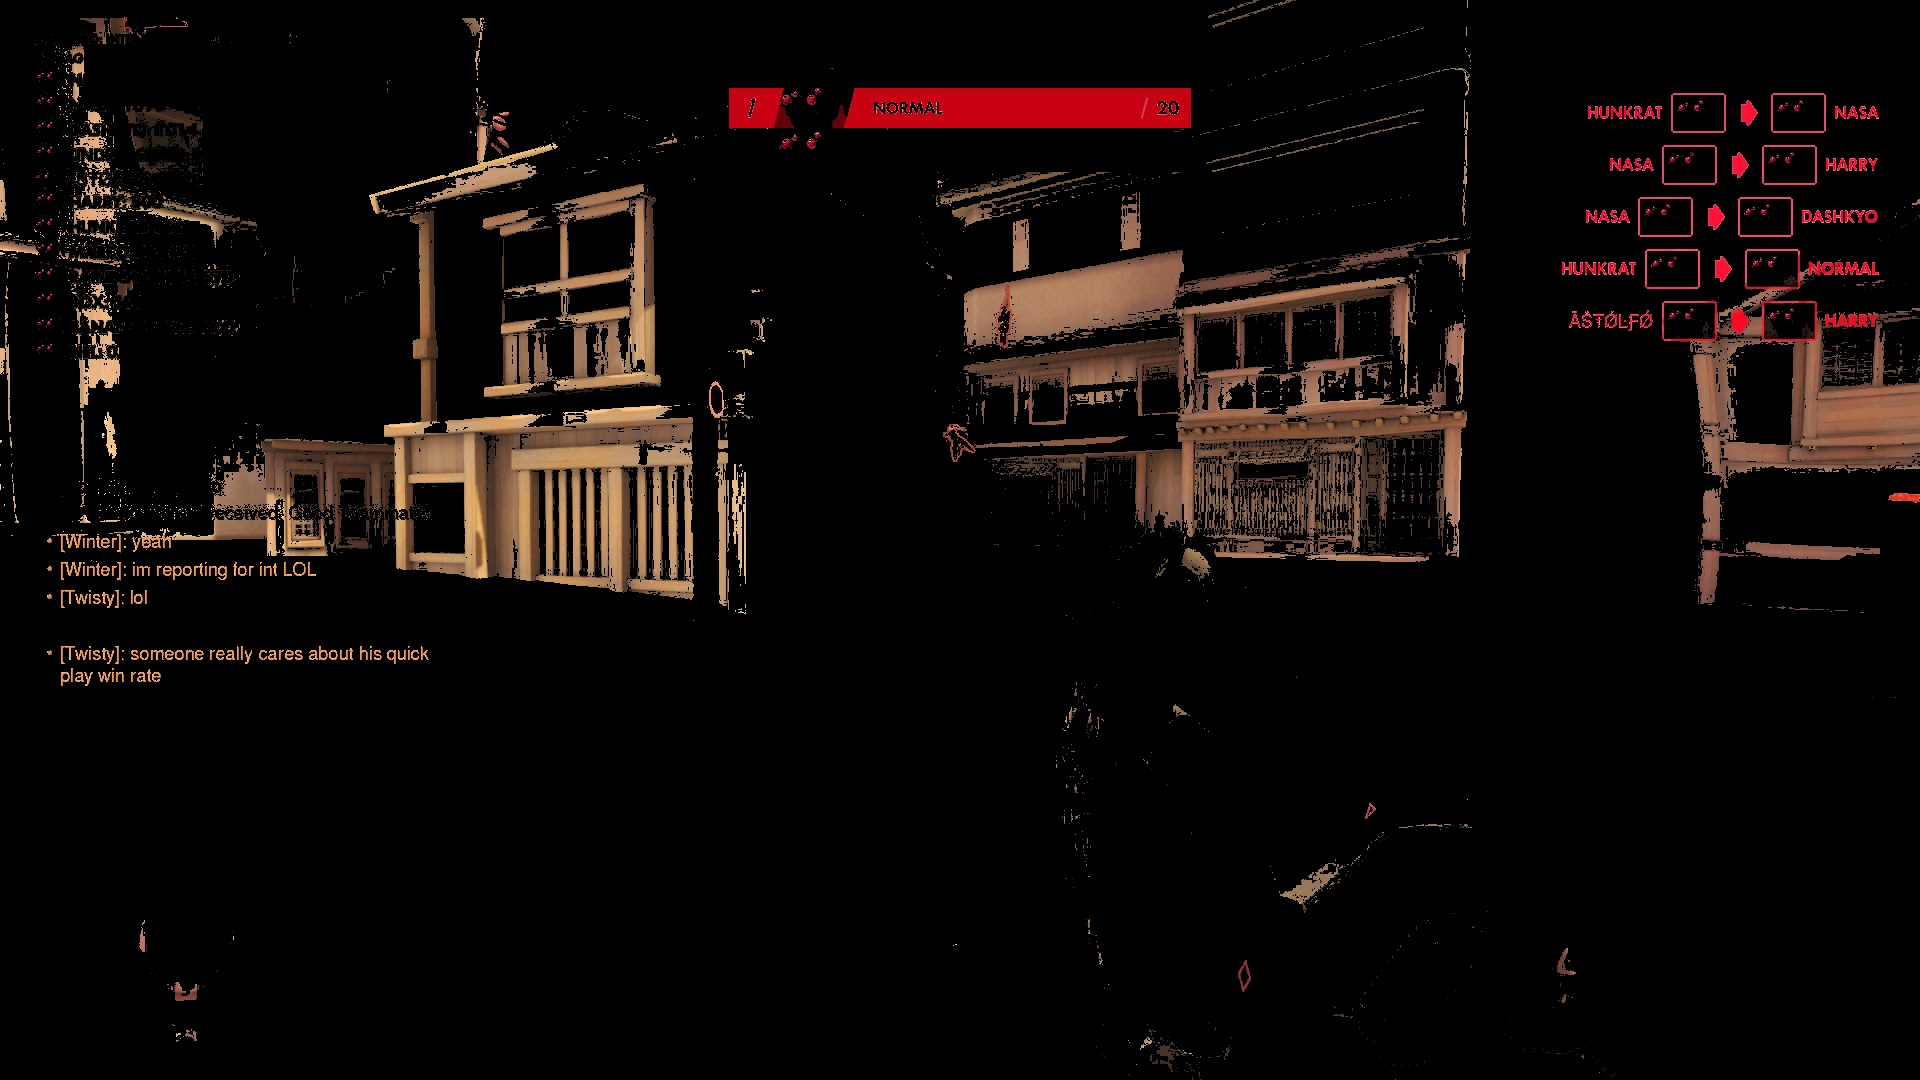widowmaker: (943, 419, 978, 465), (992, 298, 1019, 351)
